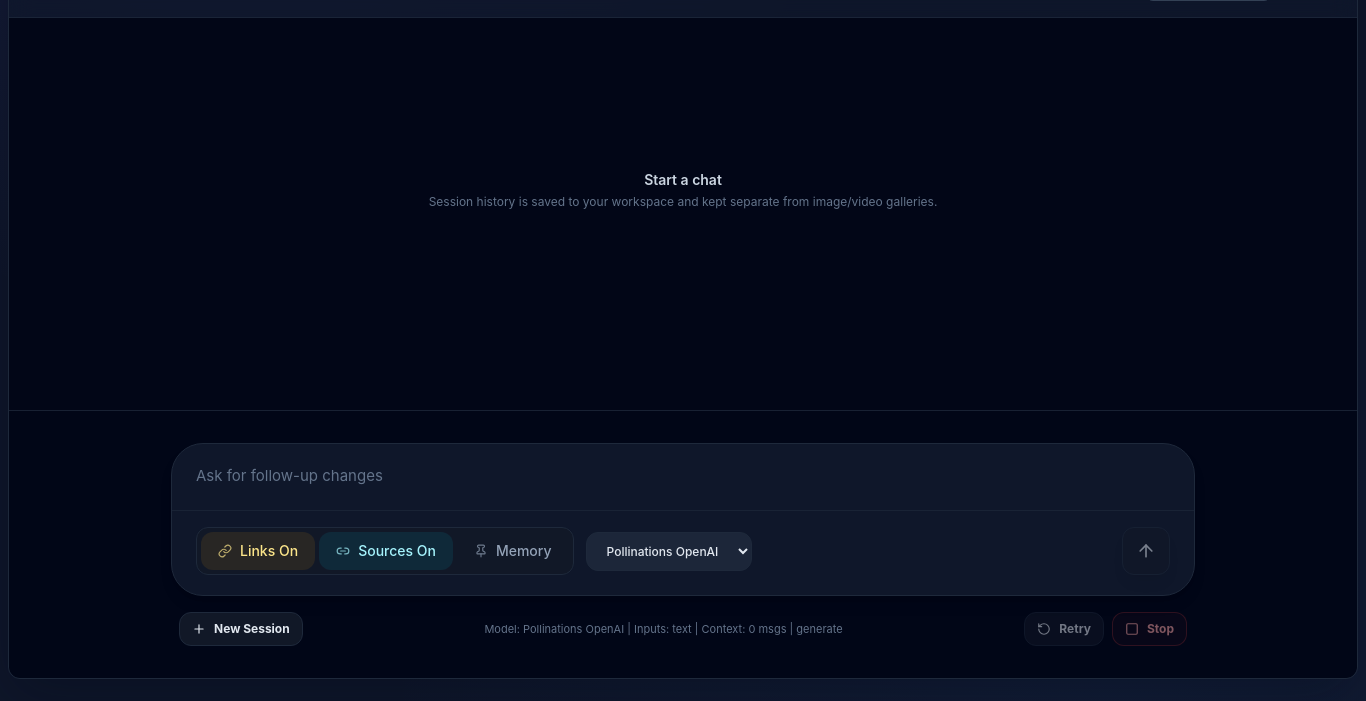
Test: AIChat visual regression states › captures error state
(page scrolled)
Type "Capture error state" into the text box with placeholder "Ask for follow-up changes" at x=683, y=474, box [172,444,1194,504]
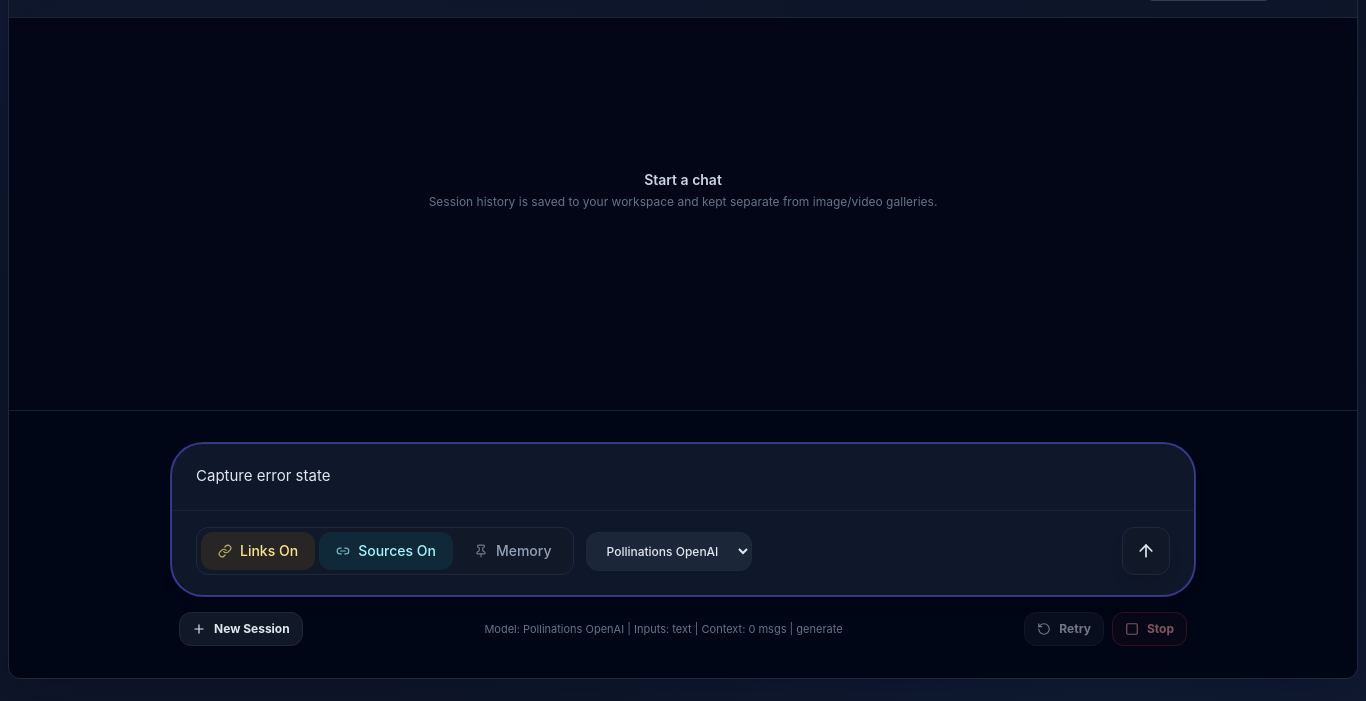
Click the button titled "Send" at x=1146, y=551, box [1122,527,1170,575]
(page scrolled)
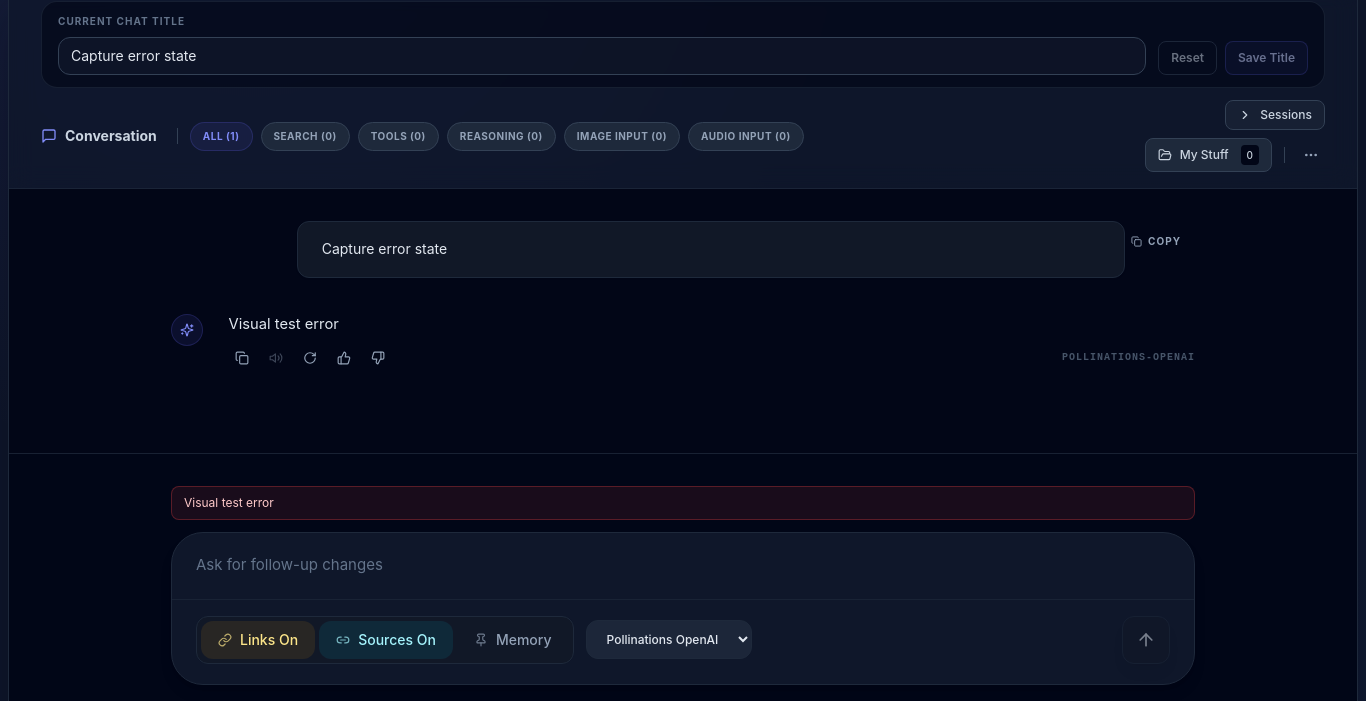
Check: the text "Visual test error" is shown 2 times, box [229,315,339,333]; [171,486,1195,520]
